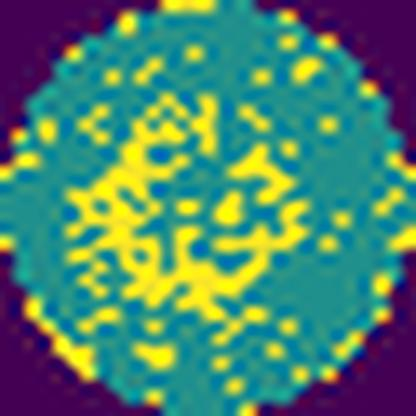Donut: (52, 78, 321, 339)
